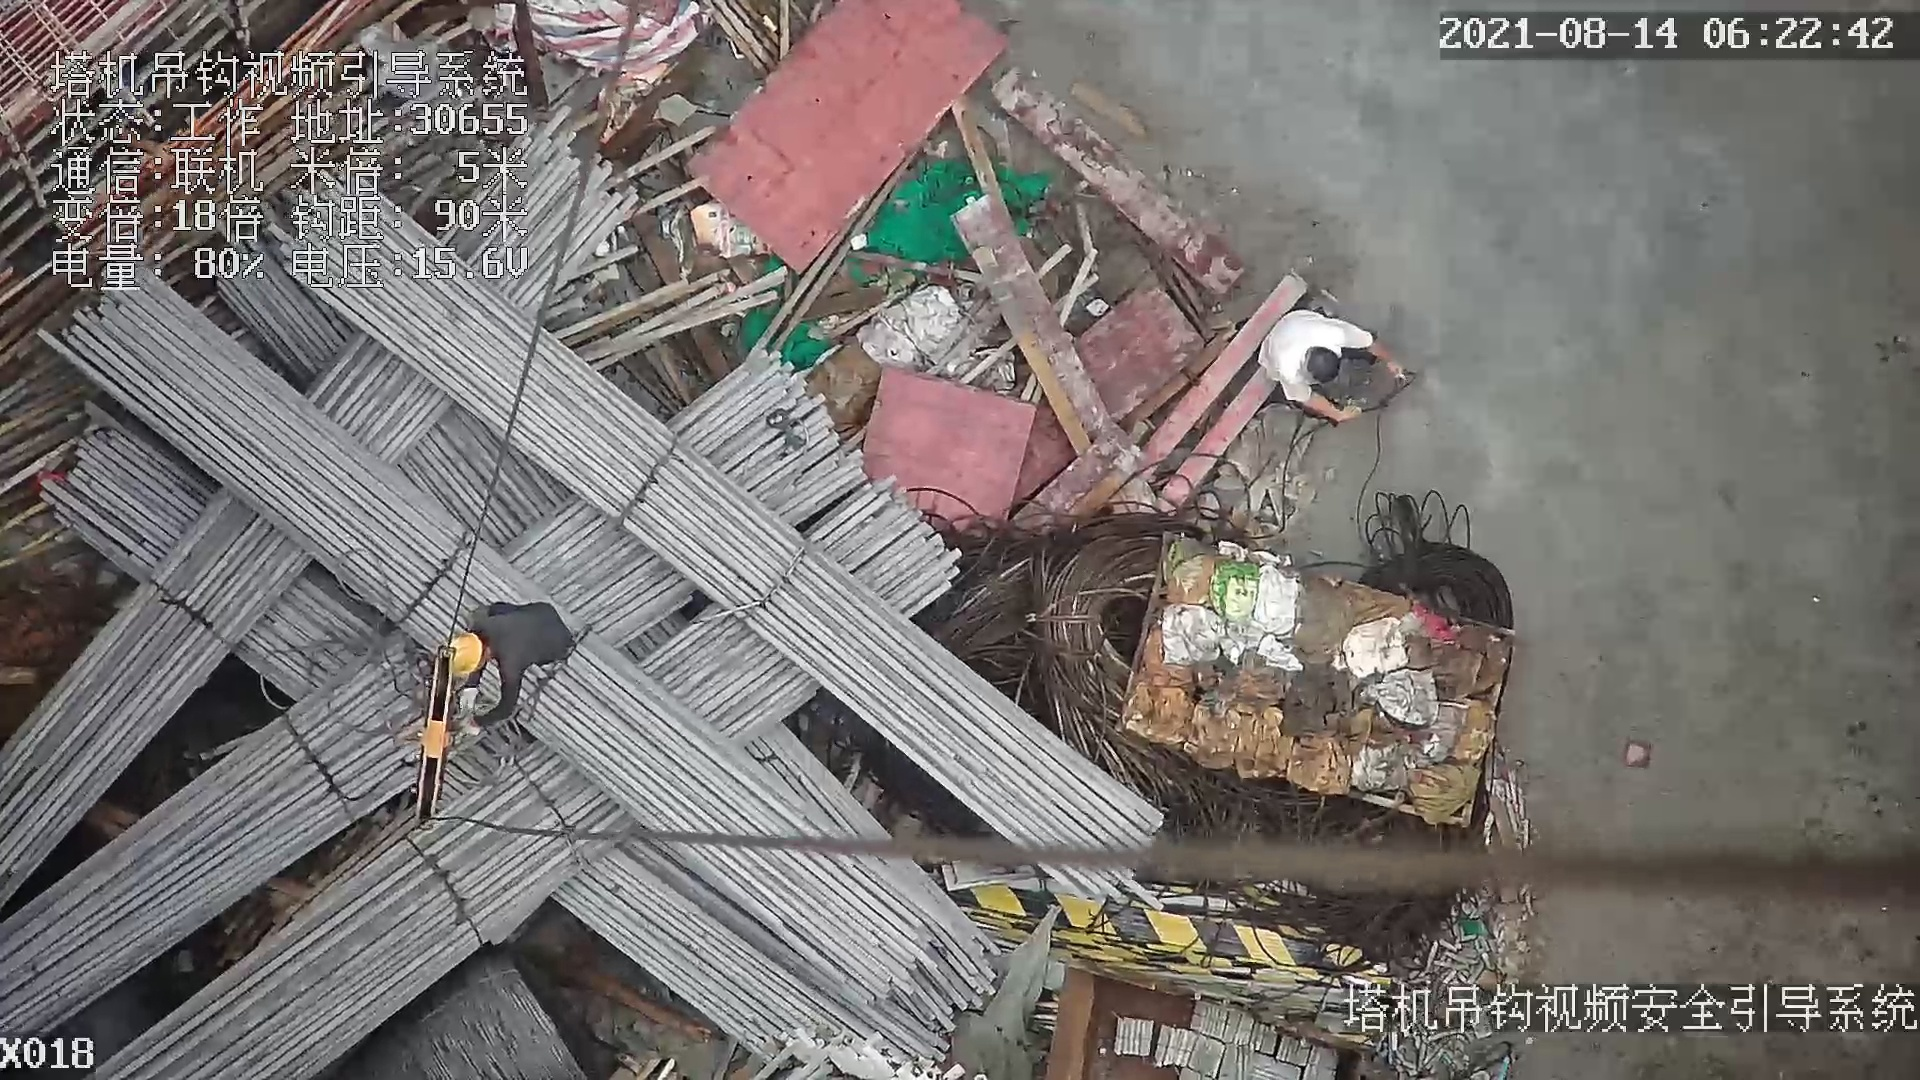board: (680, 1, 1014, 283)
helmet: (443, 630, 485, 675)
hook: (405, 645, 465, 831)
person: (1259, 306, 1409, 435), (444, 606, 585, 721)
